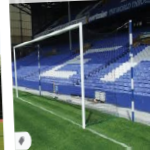goals: (12, 20, 118, 132)
